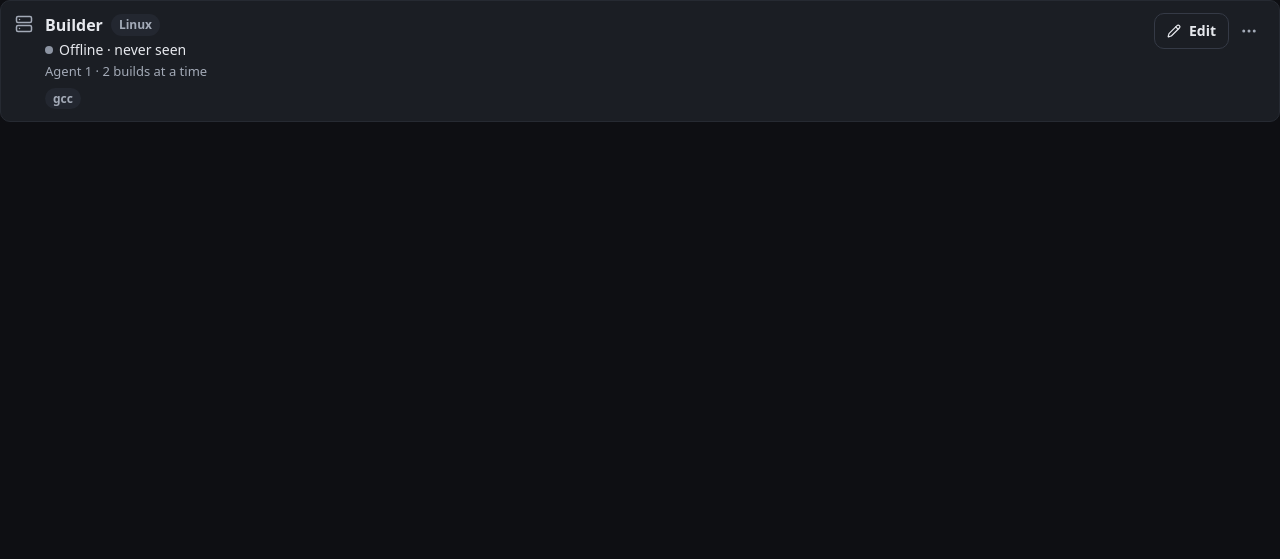
Test case: shows bounded recent toolchain diffs, unknown events, errors and retry without losing controls
Later steps or results of the test are not shown.
Click the button named "Actions for Builder".
click(1249, 31)  # box x1=1233 y1=15 x2=1265 y2=47
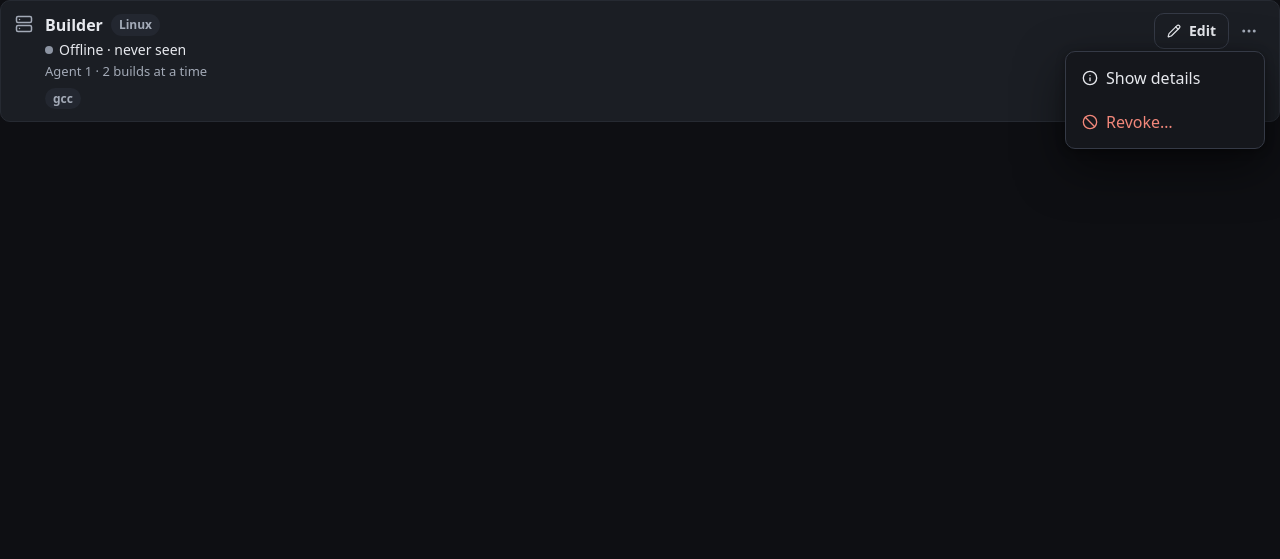
Click the button "Show details".
click(1165, 78)  # box x1=1070 y1=56 x2=1260 y2=100
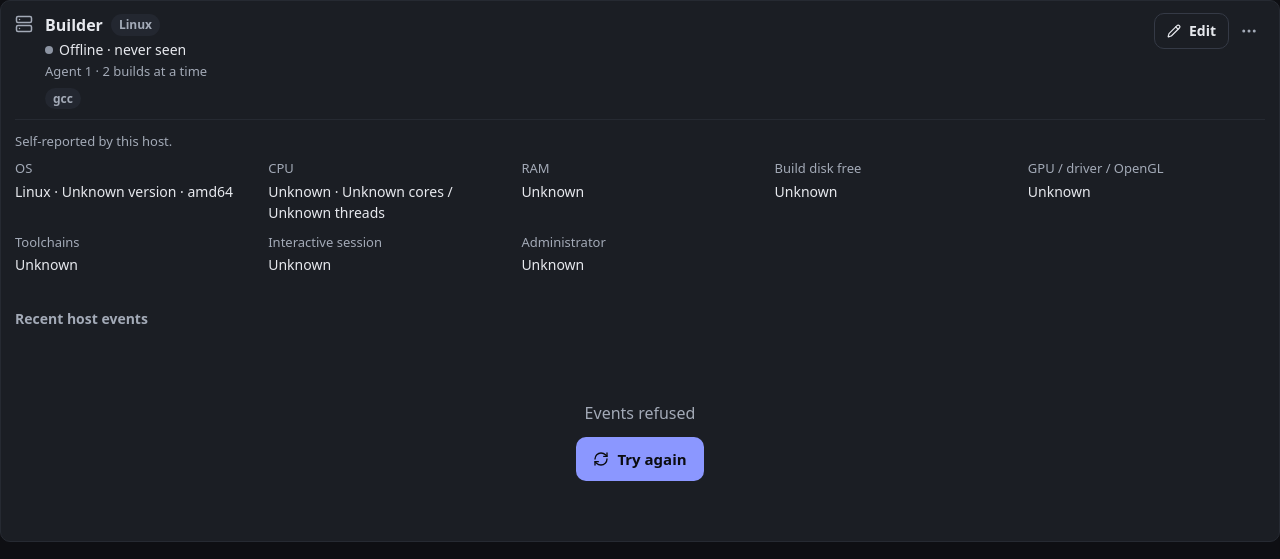
Expected: the text "Edit" is shown, x1=1154 y1=13 x2=1229 y2=49
Expected: the text "Events refused" is shown, x1=585 y1=401 x2=695 y2=425
Click the button "Try again".
click(640, 459)  # box x1=576 y1=437 x2=704 y2=481
Wait 5000 ms
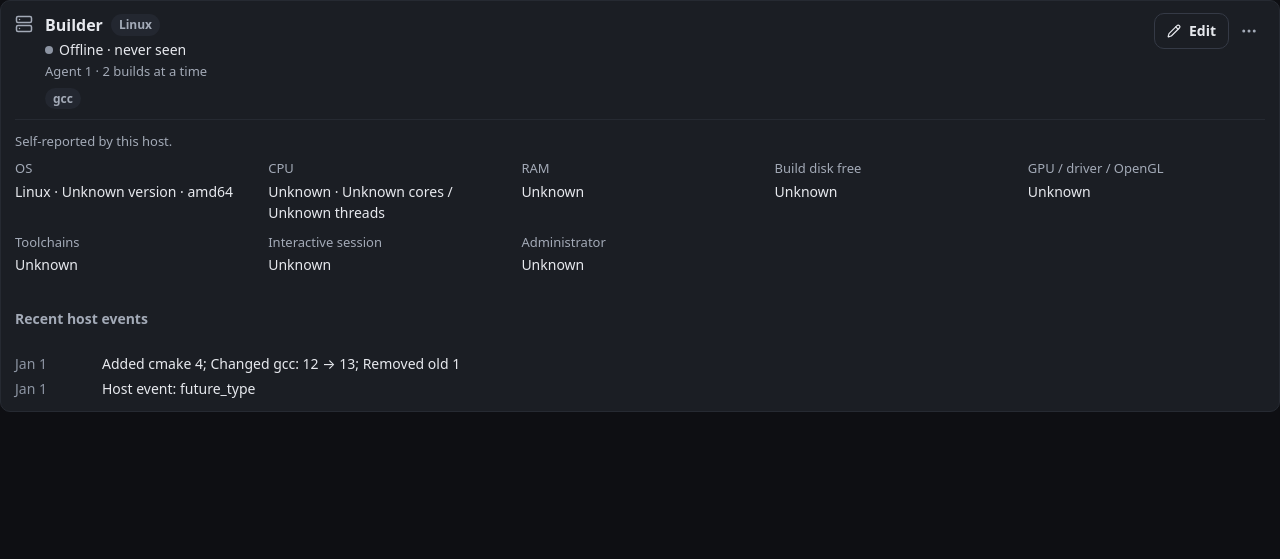
Expected: the text "Changed gcc: 12 → 13" is shown, x1=102 y1=354 x2=460 y2=373
Expected: the text "Removed old 1" is shown, x1=102 y1=354 x2=460 y2=373
Expected: the text "Added cmake 4" is shown, x1=102 y1=354 x2=460 y2=373
